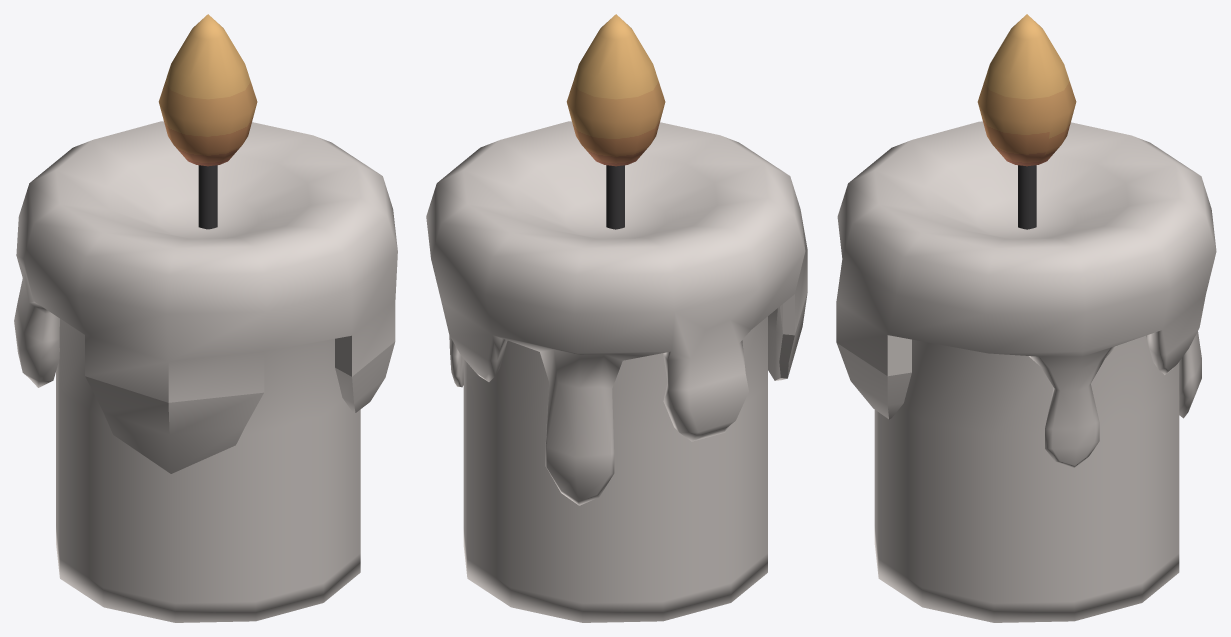
The model's file is atoll_candle.fbx.
3 views of the same model, side by side, from view 1: azimuth 30°, elevation 25°; view 2: azimuth 150°, elevation 25°; view 3: azimuth 270°, elevation 25° (orthographic).
Parts seen in each view (by area): view 1: candle, flame; view 2: candle, flame; view 3: candle, flame.
Boxes of the visible parts, <box> form: candle: <box>14,121,397,622</box>; flame: <box>158,14,257,166</box>; candle: <box>426,121,807,622</box>; flame: <box>566,14,665,166</box>; candle: <box>836,121,1216,622</box>; flame: <box>977,14,1076,166</box>.
Bounding box in the file's own units: 34.28 × 54.34 × 34.38.
